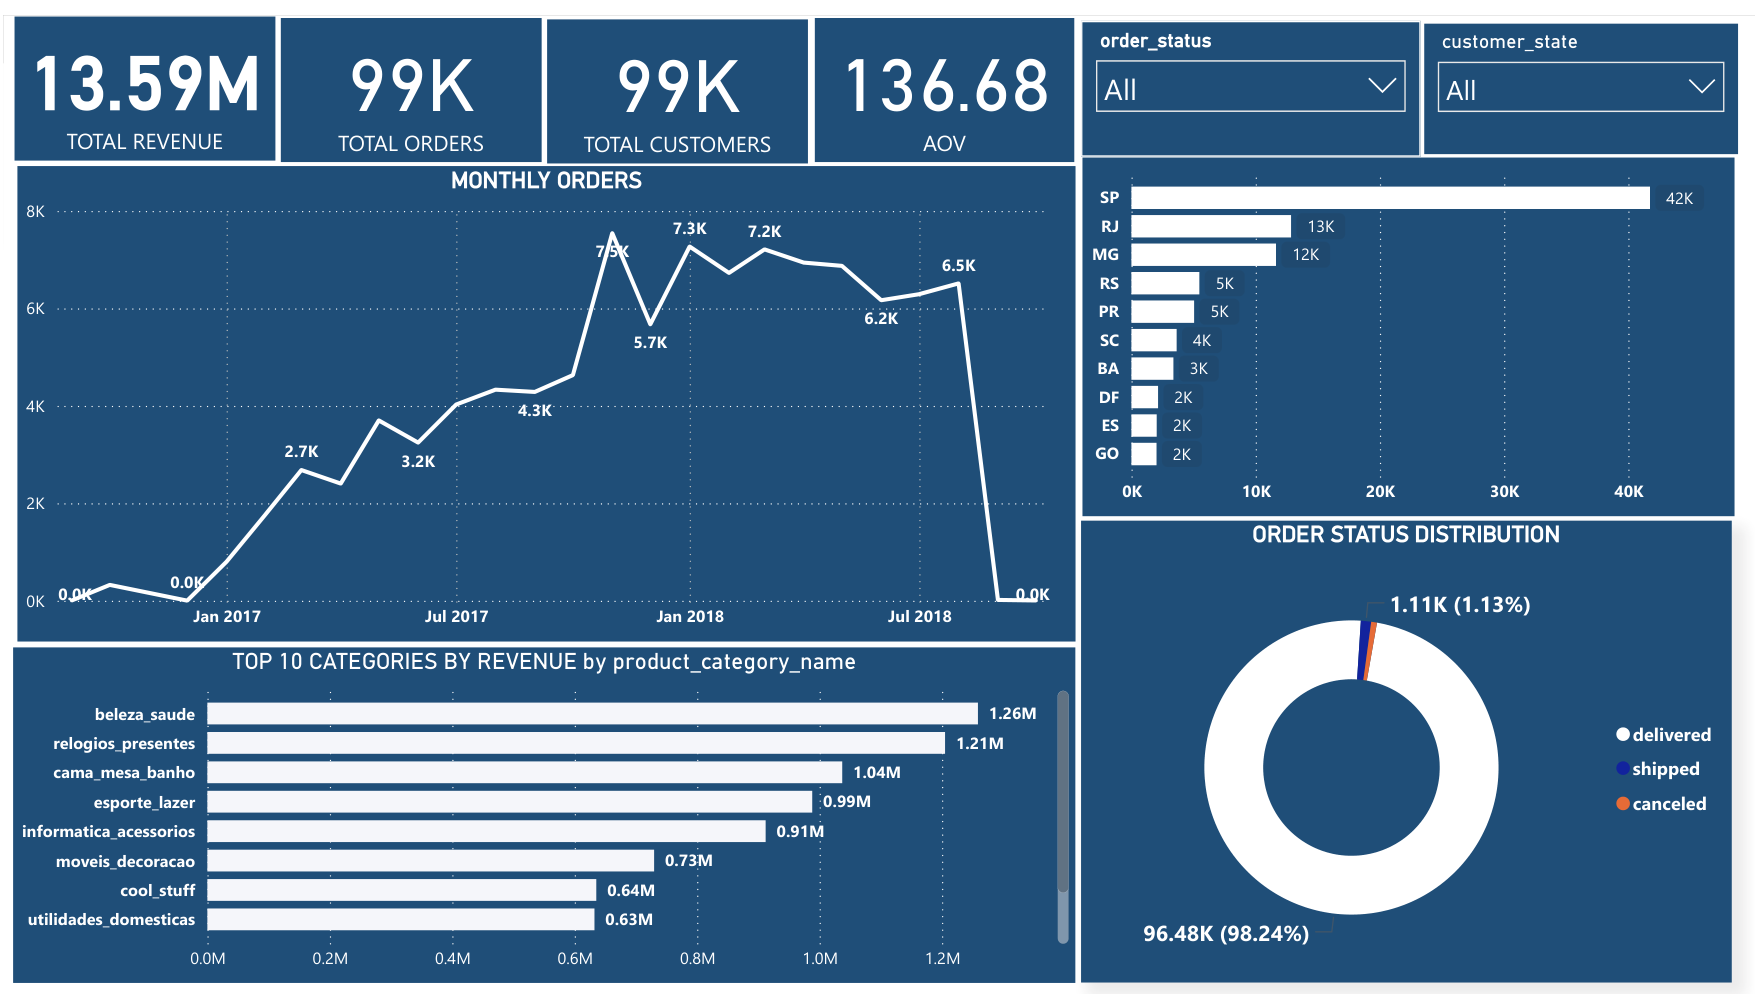

What the dashboard file says about the page in this screenshot:
{"tool":"powerbi","page":{"name":"Page 1","canvas":[1280,720],"ordinal":0},"visuals":[{"type":"card","fields":{"Values":["Sum(olist_order_items_dataset.price)"]},"box":[8.4,1,191.8,105.9],"z":0},{"type":"card","fields":{"Values":["olist_orders_dataset.total_orders"]},"box":[204.4,2.1,191.8,105.9],"z":1000},{"type":"card","fields":{"Values":["olist_order_items_dataset.AOV"]},"box":[597.6,2.1,190.8,105.9],"z":2000},{"type":"card","fields":{"Values":["olist_customers_dataset.total_customers"]},"box":[400.5,3.1,191.8,105.9],"z":3000},{"type":"lineChart","title":"MONTHLY ORDERS","fields":{"Y":["olist_orders_dataset.total_orders"],"Category":["olist_orders_dataset.order_purchase_timestamp.Variation.Date Hierarchy.Year","olist_orders_dataset.order_purchase_timestamp.Variation.Date Hierarchy.Month"]},"box":[10.5,111.1,778.9,350.1],"z":4000},{"type":"clusteredBarChart","fields":{"Category":["olist_products_dataset.product_category_name"],"Y":["Sum(olist_order_items_dataset.price)"]},"box":[7.3,465.5,782.1,247.4],"z":5000},{"type":"donutChart","title":"ORDER STATUS DISTRIBUTION  ","fields":{"Category":["olist_orders_dataset.order_status"],"Y":["CountNonNull(olist_orders_dataset.order_id)"]},"box":[793.6,372.2,479.1,339.7],"z":6000},{"type":"barChart","fields":{"Category":["olist_customers_dataset.customer_state"],"Y":["Count(olist_customers_dataset.customer_id)"]},"box":[794.6,104.8,480.1,264.2],"z":7000},{"type":"slicer","fields":{"Values":["olist_orders_dataset.order_status"]},"box":[793.6,4.2,249.5,99.6],"z":8000},{"type":"slicer","fields":{"Values":["olist_customers_dataset.customer_state"]},"box":[1046.2,6.3,230.6,96.4],"z":9000}]}

Visuals, with their boxes in screenshot pixels (x1, y1, x2, y2), scaled from the page's 1280x720 canvas onto the 1755x994 screenshot:
card - Sum(olist_order_items_dataset.price): BBox(12, 1, 274, 148)
card - olist_orders_dataset.total_orders: BBox(280, 3, 543, 149)
card - olist_order_items_dataset.AOV: BBox(819, 3, 1081, 149)
card - olist_customers_dataset.total_customers: BBox(549, 4, 812, 150)
"MONTHLY ORDERS" lineChart: BBox(14, 153, 1082, 637)
clusteredBarChart - olist_products_dataset.product_category_name x Sum(olist_order_items_dataset.price): BBox(10, 643, 1082, 984)
"ORDER STATUS DISTRIBUTION  " donutChart: BBox(1088, 514, 1745, 983)
barChart - olist_customers_dataset.customer_state x Count(olist_customers_dataset.customer_id): BBox(1089, 145, 1748, 509)
slicer - olist_orders_dataset.order_status: BBox(1088, 6, 1430, 143)
slicer - olist_customers_dataset.customer_state: BBox(1434, 9, 1751, 142)
